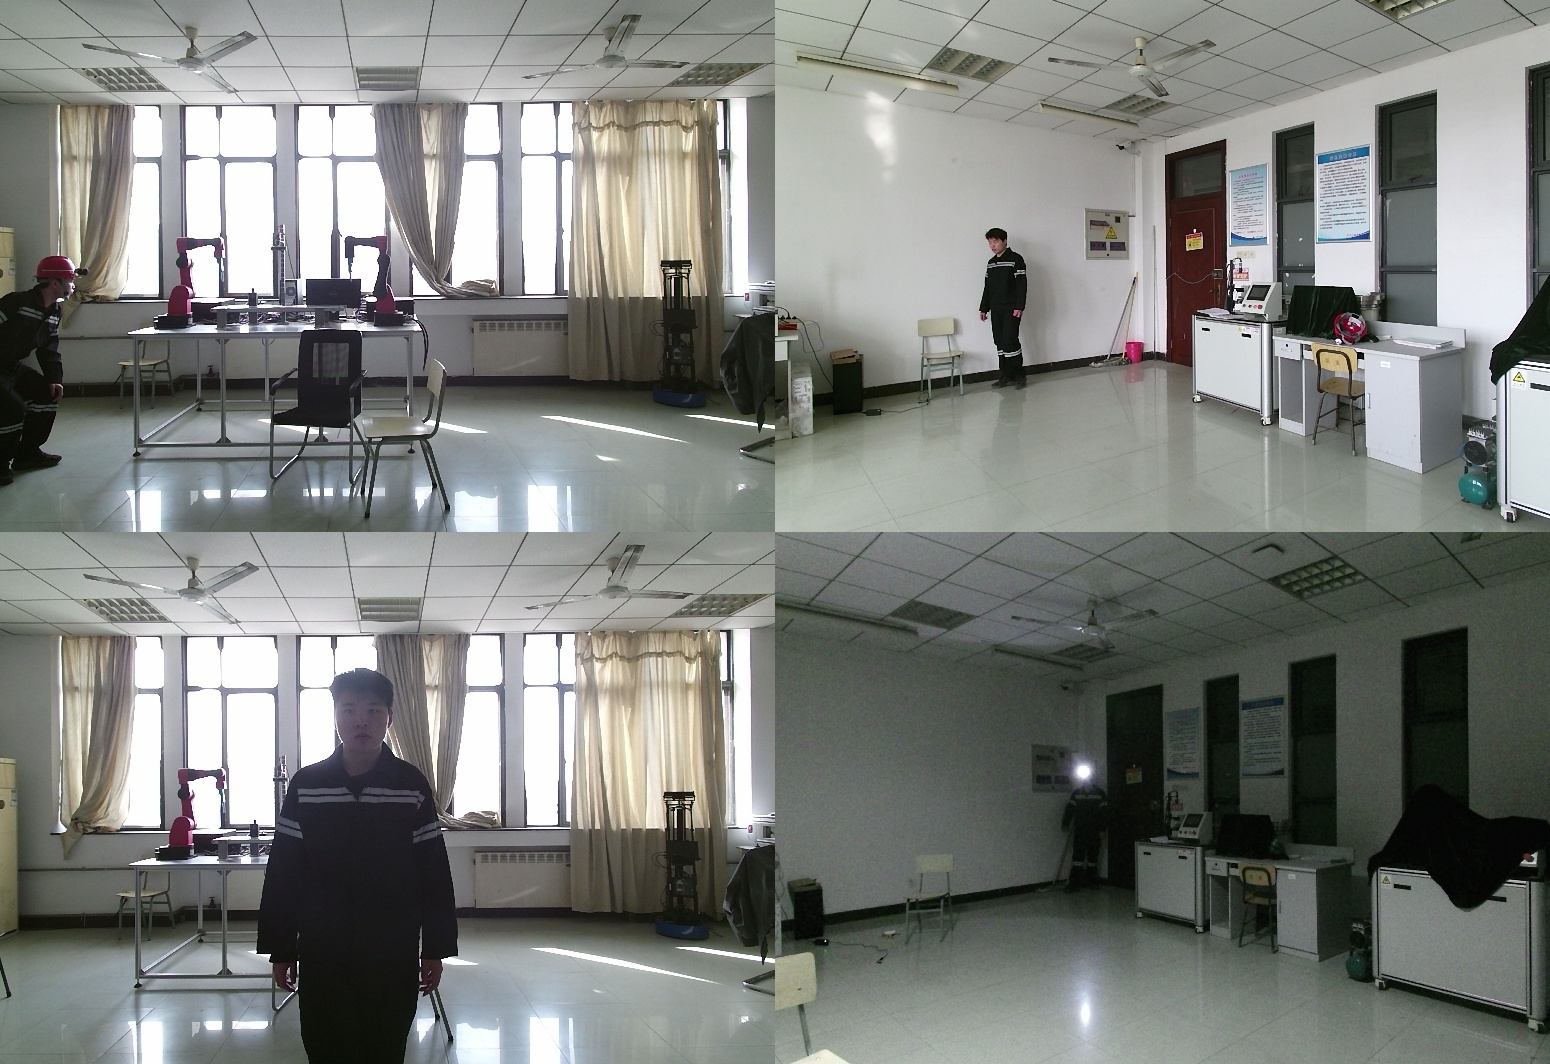person: (267, 667, 476, 1064), (2, 257, 83, 483), (976, 228, 1043, 394), (1062, 769, 1108, 894)
